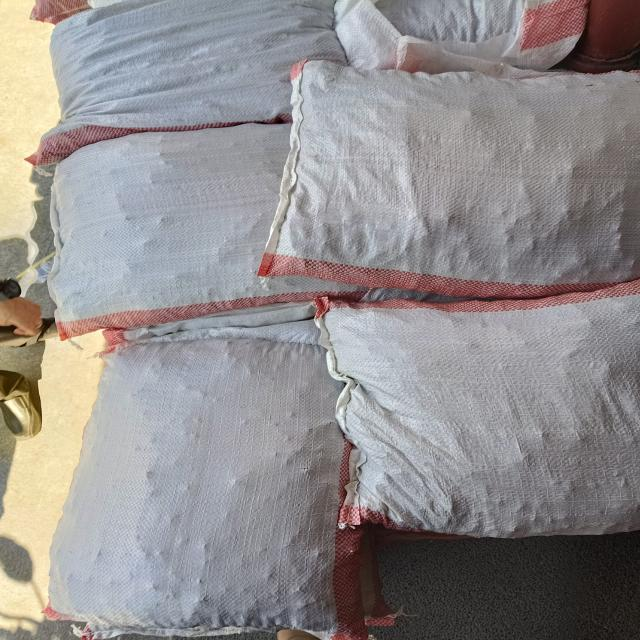Gravel: (20, 322, 339, 627), (303, 69, 639, 285), (338, 298, 640, 536), (49, 130, 293, 332), (69, 12, 333, 113), (353, 1, 582, 70)
